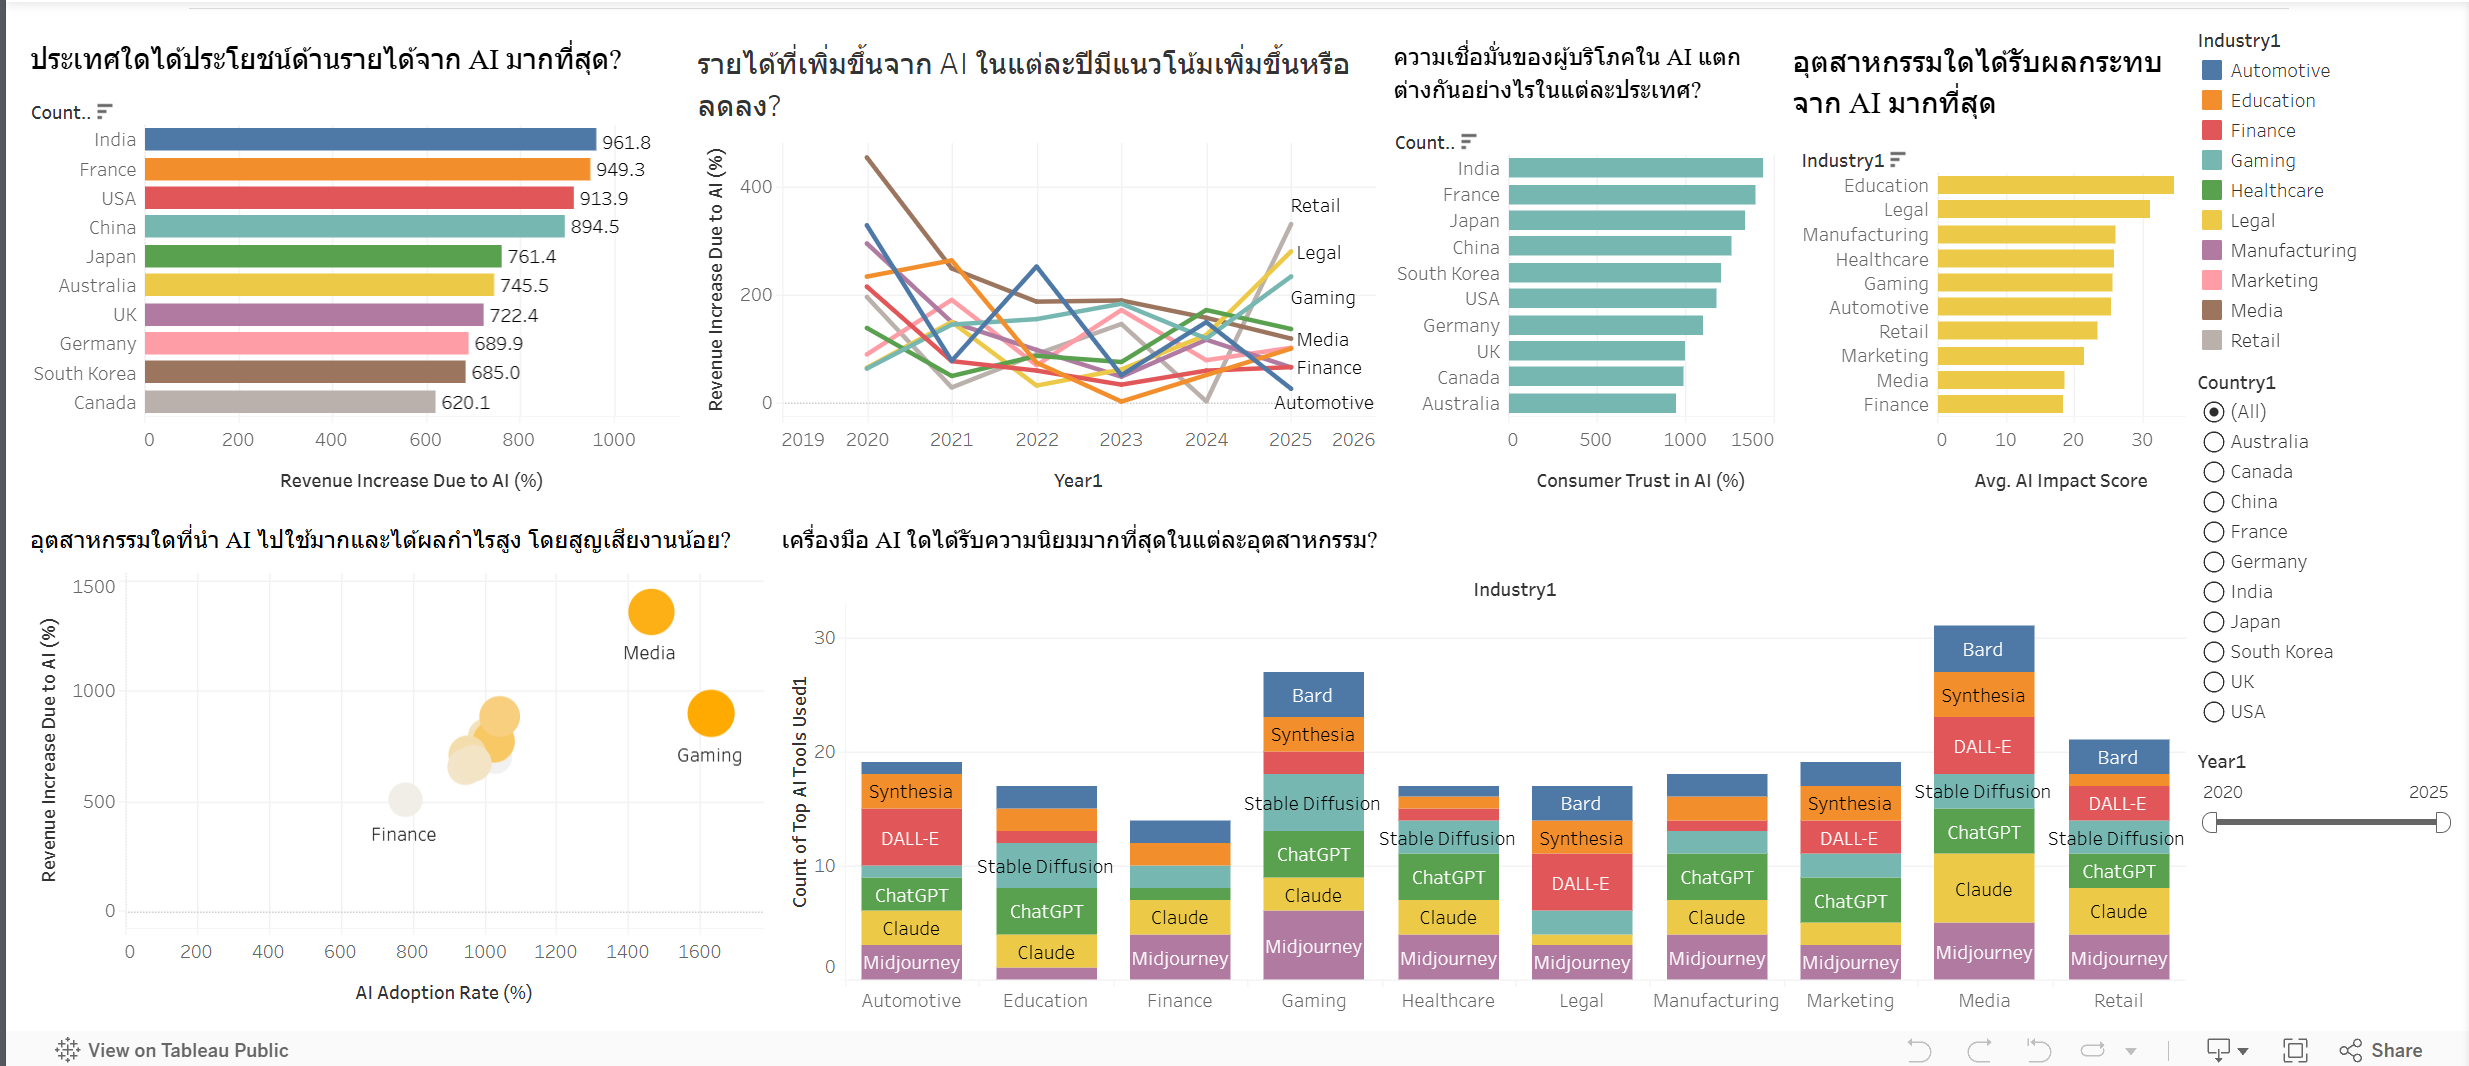

This screenshot's page, from the dashboard's own definition file:
{"tool":"tableau","page":{"name":"Dashboard 1","canvas":[1000,1000],"units":"permille","ordinal":0},"visuals":[{"type":"worksheet","title":"2","mark":"Automatic","rows":["Country"],"cols":["Revenue Increase Due to AI (%)"],"box":[5,9.4,269.6,478]},{"type":"worksheet","title":"1","mark":"Line","rows":["Revenue Increase Due to AI (%)"],"cols":["Year"],"box":[274.6,9.4,281.2,478]},{"type":"worksheet","title":"4","mark":"Bar","rows":["Country"],"cols":["Consumer Trust in AI (%)"],"box":[555.9,9.4,161.2,478]},{"type":"worksheet","title":"6","mark":"Automatic","rows":["Industry"],"cols":["AI Impact Score"],"box":[717.1,9.4,166.3,478]},{"type":"legend","title":"1","param":"[federated.1rba2cv0ybvpbi10i5sqh0a3trb8].[none:Industry:nk]","box":[883.4,9.4,111.6,333.3]},{"type":"filter","title":"2","param":"[federated.1rba2cv0ybvpbi10i5sqh0a3trb8].[none:Country:nk]","box":[883.4,342.7,111.6,395.5]},{"type":"worksheet","title":"3","mark":"Circle","rows":["Revenue Increase Due to AI (%)"],"cols":["AI Adoption Rate (%)"],"box":[5,487.4,303.9,503.2]},{"type":"worksheet","title":"5","mark":"Bar","rows":["Top AI Tools Used"],"cols":["Industry"],"box":[308.9,487.4,574.5,503.2]},{"type":"filter","title":"1","param":"[federated.1rba2cv0ybvpbi10i5sqh0a3trb8].[none:Year:qk]","box":[883.4,738.3,111.6,90.4]}]}

Visuals, with their boxes on the dashboard's canvas, which has no fixed pixel size, in thousandths of its width and height (x1, y1, x2, y2). These are canvas units, not pixel positions in the 2469x1066 screenshot, which may show the page scaled, cropped or inside an application window:
"2" worksheet: box(5, 9, 275, 487)
"1" worksheet (Line marks): box(275, 9, 556, 487)
"4" worksheet (Bar marks): box(556, 9, 717, 487)
"6" worksheet: box(717, 9, 883, 487)
"1" legend: box(883, 9, 995, 343)
"2" filter: box(883, 343, 995, 738)
"3" worksheet (Circle marks): box(5, 487, 309, 991)
"5" worksheet (Bar marks): box(309, 487, 883, 991)
"1" filter: box(883, 738, 995, 829)
